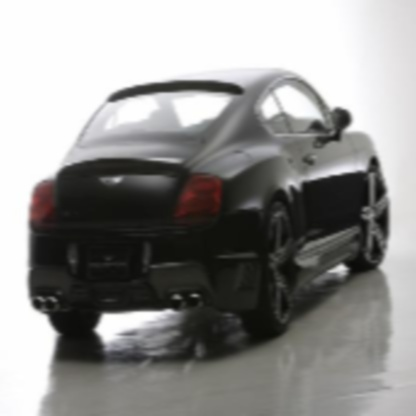Vehicle: (26, 67, 392, 340)
